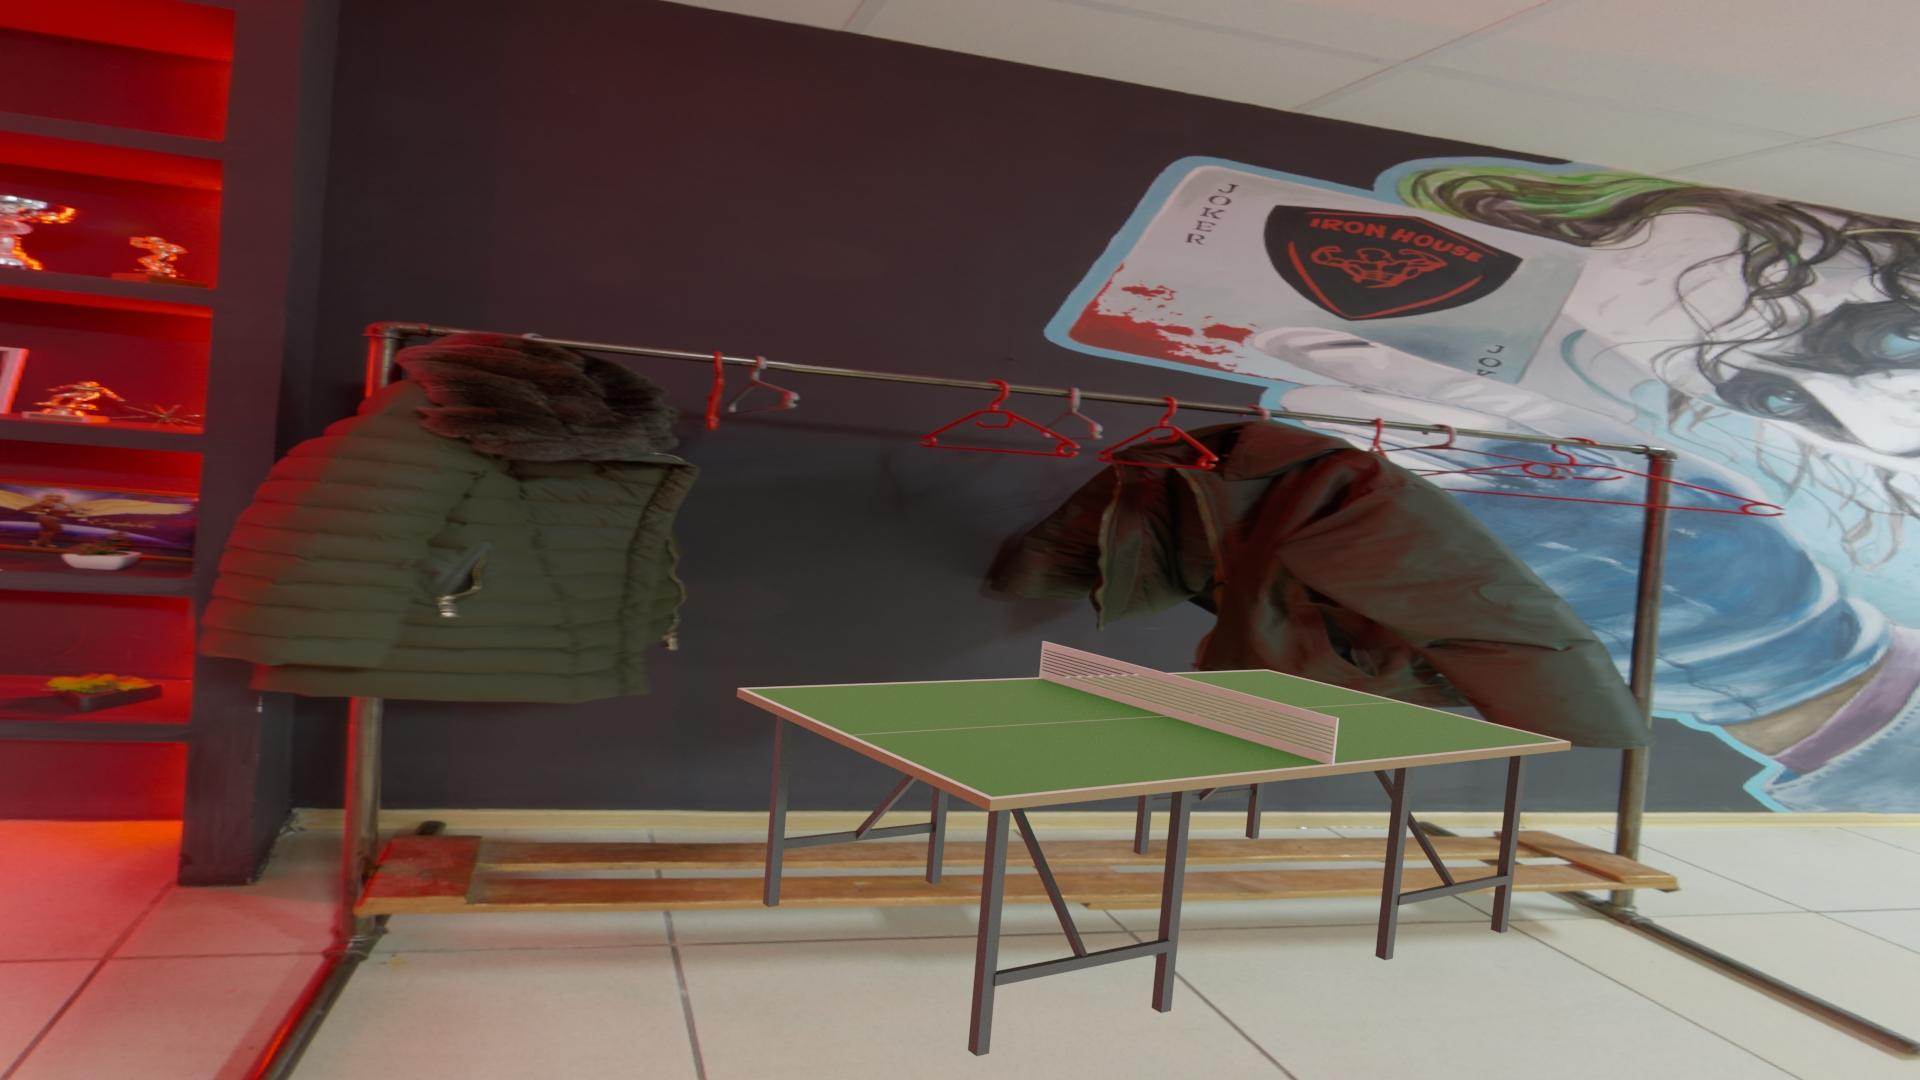table: (745, 670, 1563, 796)
